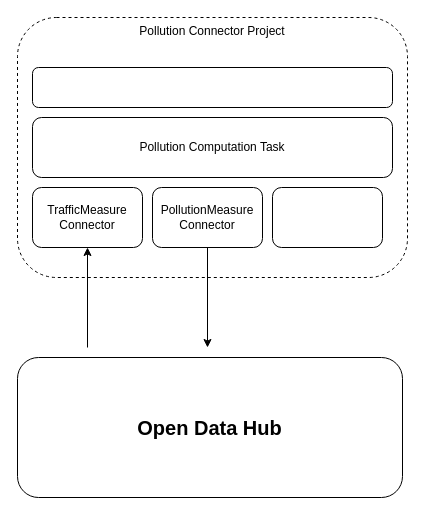
Some shapes in this 425 by 515 pixel diagram are drawn without their labels. Each missing label, with the box of its shape:
Pollution Computation Model: (272, 186, 382, 248)
Scheduler: (32, 66, 392, 108)
